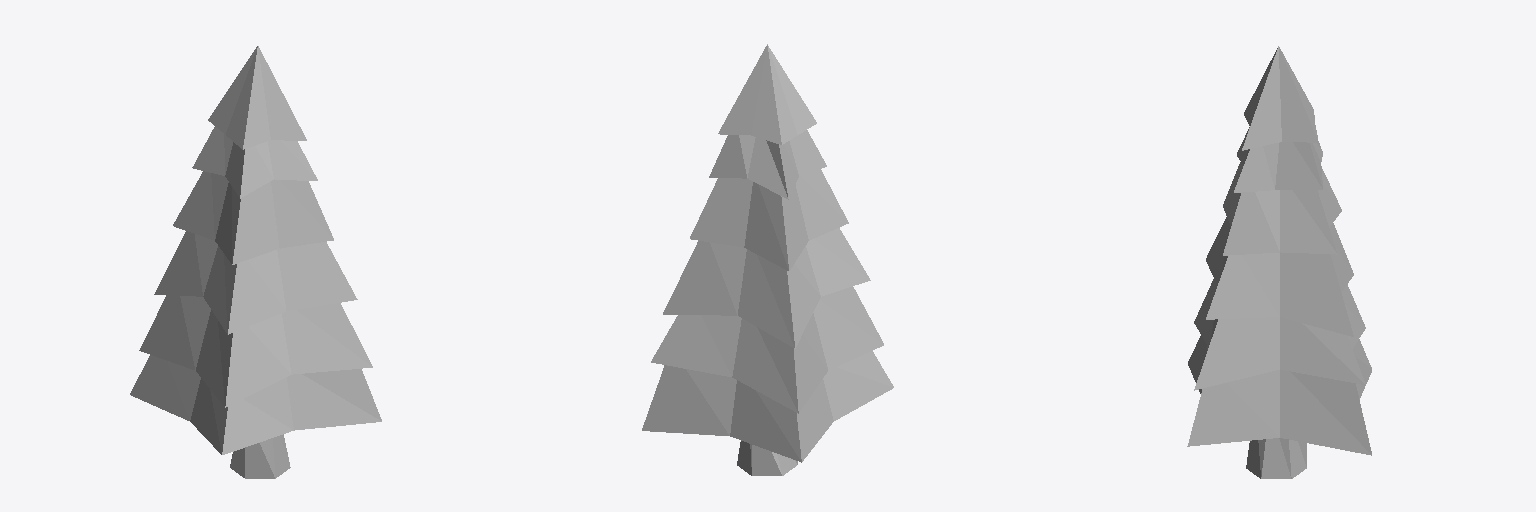
Rendered from Tree2.obj.
The picture shows the model from 3 angles: view 1: azimuth 30°, elevation 25°; view 2: azimuth 150°, elevation 25°; view 3: azimuth 270°, elevation 25°; orthographic projection.
Parts seen in each view (by area): view 1: Tree2; view 2: Tree2; view 3: Tree2.
Part boxes in pixels (x1,y1,x2,y2): Tree2: (130,46,381,478); Tree2: (642,44,893,475); Tree2: (1187,46,1371,478).
Size of the model in its own units: 104 by 261 by 104.